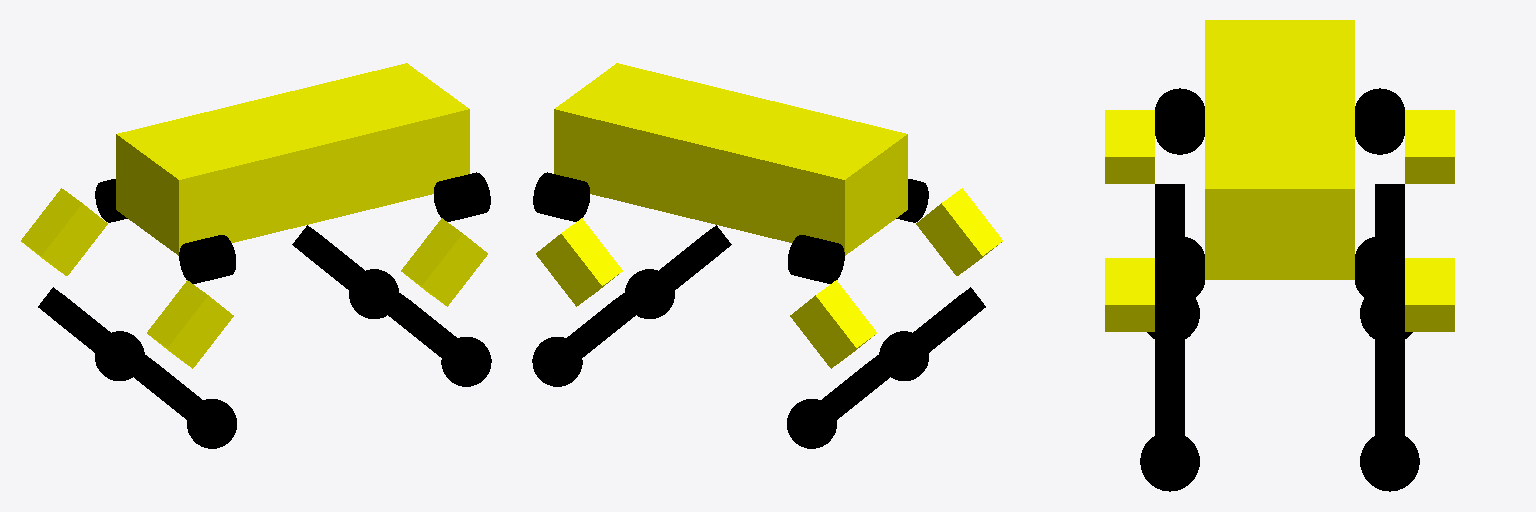
robot.urdf — bipedal:
<?xml version="1.0"?>
<robot name="bipedal" >


  <link name="base_link">
    <visual>
      <geometry>
        <box size="0.4 0.15 0.1"/>
      </geometry>
      <material name="yellow">
        <color rgba="1 1 0 1"/>
      </material>
    </visual>

    <collision>
      <geometry>
        <box size="0.4 0.15 0.1"/>
      </geometry>
    </collision>

    <inertial>
      <mass value="1.5"/>
      <inertia ixx="0.015"  ixy="0"  ixz="0" iyy="0.015" iyz="0" izz="0.015" />
    </inertial>
  </link>
  
  <link name="fl_shoulder">
    <visual>
      <geometry>
        <cylinder radius="0.025" length="0.05"/>
      </geometry>
      <origin rpy="0 1.5708 0" xyz="0 0 0"/>
      <material name="black">
        <color rgba="0 0 0 1"/>
      </material>
    </visual>

    <collision>
      <geometry>
        <cylinder radius="0.025" length="0.05"/>
      </geometry>
      <origin rpy="0 1.5708 0" xyz="0 0 0"/>
    </collision>

    <inertial>
      <mass value=".1"/>
      <inertia ixx="0.00005"  ixy="0"  ixz="0" iyy="0.00013" iyz="0" izz="0.00018" />
    </inertial>
  </link>
  
  <joint name="fl_shoulder_to_base" type="revolute">
    <axis xyz="1 0 0"/>
    <limit effort="0.9" lower="-0.785" upper="0.785" velocity="2"/>
    <origin rpy="0 0 0" xyz="0.175 0.1 -0.05"/>
    <parent link="base_link"/>
    <child link="fl_shoulder"/>
  </joint>

  <link name="fr_shoulder">
    <visual>
      <geometry>
        <cylinder radius="0.025" length="0.05"/>
      </geometry>
      <origin rpy="0 1.5708 0" xyz="0 0 0"/>
      <material name="black">
      </material>
    </visual>

    <collision>
      <geometry>
        <cylinder radius="0.025" length="0.05"/>
      </geometry>
      <origin rpy="0 1.5708 0" xyz="0 0 0"/>
    </collision>

    <inertial>
      <mass value=".1"/>
      <inertia ixx="0.00005"  ixy="0"  ixz="0" iyy="0.00013" iyz="0" izz="0.00018" />
    </inertial>
  </link>
  
  <joint name="fr_shoulder_to_base" type="revolute">
    <axis xyz="1 0 0"/>
    <limit effort="0.9" lower="-0.785" upper="0.785" velocity="2"/>
    <origin rpy="0 0 0" xyz="0.175 -0.1 -0.05"/>
    <parent link="base_link"/>
    <child link="fr_shoulder"/>
  </joint>

  <link name="bl_shoulder">
    <visual>
      <geometry>
        <cylinder radius="0.025" length="0.05"/>
      </geometry>
      <origin rpy="0 1.5708 0" xyz="0 0 0"/>
      <material name="black">
      </material>
    </visual>

    <collision>
      <geometry>
        <cylinder radius="0.025" length="0.05"/>
      </geometry>
      <origin rpy="0 1.5708 0" xyz="0 0 0"/>
    </collision>

    <inertial>
      <mass value=".1"/>
      <inertia ixx="0.00005"  ixy="0"  ixz="0" iyy="0.00013" iyz="0" izz="0.00018" />
    </inertial>
  </link>
  
  <joint name="bl_shoulder_to_base" type="revolute">
    <axis xyz="1 0 0"/>
    <limit effort="0.9" lower="-0.785" upper="0.785" velocity="2"/>
    <origin rpy="0 0 0" xyz="-0.175 0.1 -0.05"/>
    <parent link="base_link"/>
    <child link="bl_shoulder"/>
  </joint>

  <link name="br_shoulder">
    <visual>
      <geometry>
        <cylinder radius="0.025" length="0.05"/>
      </geometry>
      <origin rpy="0 1.5708 0" xyz="0 0 0"/>
      <material name="black">
      </material>
    </visual>

    <collision>
      <geometry>
        <cylinder radius="0.025" length="0.05"/>
      </geometry>
      <origin rpy="0 1.5708 0" xyz="0 0 0"/>
    </collision>

    <inertial>
      <mass value=".1"/>
      <inertia ixx="0.00005"  ixy="0"  ixz="0" iyy="0.00013" iyz="0" izz="0.00018" />
    </inertial>
  </link>
  
  <joint name="br_shoulder_to_base" type="revolute">
    <axis xyz="1 0 0"/>
    <limit effort="0.9" lower="-0.785" upper="0.785" velocity="2"/>
    <origin rpy="0 0 0" xyz="-0.175 -0.1 -0.05"/>
    <parent link="base_link"/>
    <child link="br_shoulder"/>
  </joint>

  <link name="fl_thigh">
    <visual>
      <geometry>
        <box size="0.05 0.05 0.08"/>
      </geometry>
      <origin rpy="0 0 0" xyz="0 0.025 -0.075"/>
      <material name="yellow">
      </material>
    </visual>

    <collision>
      <geometry>
        <box size="0.05 0.05 0.08"/>
      </geometry>
      <origin rpy="0 0 0" xyz="0 0.025 -0.075"/>
    </collision>

    <inertial>
      <mass value=".1"/>
      <inertia ixx="0.00005"  ixy="0"  ixz="0" iyy="0.00013" iyz="0" izz="0.00018" />
    </inertial>
  </link>
  
  <joint name="fl_thigh_to_shoulder" type="revolute">
    <axis xyz="0 1 0"/>
    <limit effort="0.9" lower="-0.785" upper="0.785" velocity="2"/>
    <origin rpy="0 0.785 0" xyz="0 0.025 0"/>
    <parent link="fl_shoulder"/>
    <child link="fl_thigh"/>
  </joint>

  <link name="fr_thigh">
    <visual>
      <geometry>
        <box size="0.05 0.05 0.08"/>
      </geometry>
      <origin rpy="0 0 0" xyz="0 -0.025 -0.075"/>
      <material name="yellow">
      </material>
    </visual>

    <collision>
      <geometry>
        <box size="0.05 0.05 0.08"/>
      </geometry>
      <origin rpy="0 0 0" xyz="0 -0.025 -0.075"/>
    </collision>

    <inertial>
      <mass value=".1"/>
      <inertia ixx="0.00005"  ixy="0"  ixz="0" iyy="0.00013" iyz="0" izz="0.00018" />
    </inertial>
  </link>
  
  <joint name="fr_thigh_to_shoulder" type="revolute">
    <axis xyz="0 1 0"/>
    <limit effort="0.9" lower="-0.785" upper="0.785" velocity="2"/>
    <origin rpy="0 0.785 0" xyz="0 -0.025 0"/>
    <parent link="fr_shoulder"/>
    <child link="fr_thigh"/>
  </joint>

  <link name="bl_thigh">
    <visual>
      <geometry>
        <box size="0.05 0.05 0.08"/>
      </geometry>
      <origin rpy="0 0 0" xyz="0 0.025 -0.075"/>
      <material name="yellow">
      </material>
    </visual>

    <collision>
      <geometry>
        <box size="0.05 0.05 0.08"/>
      </geometry>
      <origin rpy="0 0 0" xyz="0 0.025 -0.075"/>
    </collision>

    <inertial>
      <mass value=".1"/>
      <inertia ixx="0.00005"  ixy="0"  ixz="0" iyy="0.00013" iyz="0" izz="0.00018" />
    </inertial>
  </link>
  
  <joint name="bl_thigh_to_shoulder" type="revolute">
    <axis xyz="0 1 0"/>
    <limit effort="0.9" lower="-0.785" upper="0.785" velocity="2"/>
    <origin rpy="0 0.785 0" xyz="0 0.025 0"/>
    <parent link="bl_shoulder"/>
    <child link="bl_thigh"/>
  </joint>

  <link name="br_thigh">
    <visual>
      <geometry>
        <box size="0.05 0.05 0.08"/>
      </geometry>
      <origin rpy="0 0 0" xyz="0 -0.025 -0.075"/>
      <material name="yellow">
      </material>
    </visual>

    <collision>
      <geometry>
        <box size="0.05 0.05 0.08"/>
      </geometry>
      <origin rpy="0 0 0" xyz="0 -0.025 -0.075"/>
    </collision>

    <inertial>
      <mass value=".1"/>
      <inertia ixx="0.00005"  ixy="0"  ixz="0" iyy="0.00013" iyz="0" izz="0.00018" />
    </inertial>
  </link>
  
  <joint name="br_thigh_to_shoulder" type="revolute">
    <axis xyz="0 1 0"/>
    <limit effort="0.9" lower="-0.785" upper="0.785" velocity="2"/>
    <origin rpy="0 0.785 0" xyz="0 -0.025 0"/>
    <parent link="br_shoulder"/>
    <child link="br_thigh"/>
  </joint>

  <link name="fl_bicep">
    <visual>
      <geometry>
        <box size="0.03 0.03 0.115"/>
      </geometry>
      <origin rpy="0 0 0" xyz="0 -0.015 -0.075"/>
      <material name="black">
      </material>
    </visual>
	
	<visual>
      <geometry>
        <sphere radius="0.03"/>
      </geometry>
      <origin rpy="0 0 0" xyz="0 -0.015 -0.15"/>
      <material name="black">
      </material>
    </visual>
	
    <collision>
      <geometry>
        <box size="0.03 0.03 0.115"/>
      </geometry>
      <origin rpy="0 0 0" xyz="0 -0.015 -0.075"/>
    </collision>

	<collision>
      <geometry>
        <sphere radius="0.03"/>
      </geometry>
      <origin rpy="0 0 0" xyz="0 -0.015 -0.15"/>
    </collision>	


    <inertial>
      <mass value=".1"/>
      <inertia ixx="0.00005"  ixy="0"  ixz="0" iyy="0.00013" iyz="0" izz="0.00018" />
    </inertial>
  </link>
  
  <joint name="fl_bicep_to_thigh" type="revolute">
    <axis xyz="0 1 0"/>
    <limit effort="0.9" lower="-0.785" upper="0.785" velocity="2"/>
    <origin rpy="0 -1.5708 0" xyz="0 0 -0.15"/>
    <parent link="fl_thigh"/>
    <child link="fl_bicep"/>
  </joint>

  <link name="fr_bicep">
    <visual>
      <geometry>
        <box size="0.03 0.03 0.115"/>
      </geometry>
      <origin rpy="0 0 0" xyz="0 0.015 -0.075"/>
      <material name="black">
      </material>
    </visual>
	
	<visual>
      <geometry>
        <sphere radius="0.03"/>
      </geometry>
      <origin rpy="0 0 0" xyz="0 0.015 -0.15"/>
      <material name="black">
      </material>
    </visual>
	
    <collision>
      <geometry>
        <box size="0.03 0.03 0.115"/>
      </geometry>
      <origin rpy="0 0 0" xyz="0 0.015 -0.075"/>
    </collision>

	<collision>
      <geometry>
        <sphere radius="0.03"/>
      </geometry>
      <origin rpy="0 0 0" xyz="0 0.015 -0.15"/>
    </collision>	


    <inertial>
      <mass value=".1"/>
      <inertia ixx="0.00005"  ixy="0"  ixz="0" iyy="0.00013" iyz="0" izz="0.00018" />
    </inertial>
  </link>
  
  <joint name="fr_bicep_to_thigh" type="revolute">
    <axis xyz="0 1 0"/>
    <limit effort="0.9" lower="-0.785" upper="0.785" velocity="2"/>
    <origin rpy="0 -1.5708 0" xyz="0 0 -0.15"/>
    <parent link="fr_thigh"/>
    <child link="fr_bicep"/>
  </joint>

  <link name="bl_bicep">
    <visual>
      <geometry>
        <box size="0.03 0.03 0.115"/>
      </geometry>
      <origin rpy="0 0 0" xyz="0 -0.015 -0.075"/>
      <material name="black">
      </material>
    </visual>
	
	<visual>
      <geometry>
        <sphere radius="0.03"/>
      </geometry>
      <origin rpy="0 0 0" xyz="0 -0.015 -0.15"/>
      <material name="black">
      </material>
    </visual>
	
    <collision>
      <geometry>
        <box size="0.03 0.03 0.115"/>
      </geometry>
      <origin rpy="0 0 0" xyz="0 -0.015 -0.075"/>
    </collision>

	<collision>
      <geometry>
        <sphere radius="0.03"/>
      </geometry>
      <origin rpy="0 0 0" xyz="0 -0.015 -0.15"/>
    </collision>	


    <inertial>
      <mass value=".1"/>
      <inertia ixx="0.00005"  ixy="0"  ixz="0" iyy="0.00013" iyz="0" izz="0.00018" />
    </inertial>
  </link>
  
  <joint name="bl_bicep_to_thigh" type="revolute">
    <axis xyz="0 1 0"/>
    <limit effort="0.9" lower="-0.785" upper="0.785" velocity="2"/>
    <origin rpy="0 -1.5708 0" xyz="0 0 -0.15"/>
    <parent link="bl_thigh"/>
    <child link="bl_bicep"/>
  </joint>

  <link name="br_bicep">
    <visual>
      <geometry>
        <box size="0.03 0.03 0.115"/>
      </geometry>
      <origin rpy="0 0 0" xyz="0 0.015 -0.075"/>
      <material name="black">
      </material>
    </visual>
	
	<visual>
      <geometry>
        <sphere radius="0.03"/>
      </geometry>
      <origin rpy="0 0 0" xyz="0 0.015 -0.15"/>
      <material name="black">
      </material>
    </visual>
	
    <collision>
      <geometry>
        <box size="0.03 0.03 0.115"/>
      </geometry>
      <origin rpy="0 0 0" xyz="0 0.015 -0.075"/>
    </collision>

	<collision>
      <geometry>
        <sphere radius="0.03"/>
      </geometry>
      <origin rpy="0 0 0" xyz="0 0.015 -0.15"/>
    </collision>	


    <inertial>
      <mass value=".1"/>
      <inertia ixx="0.00005"  ixy="0"  ixz="0" iyy="0.00013" iyz="0" izz="0.00018" />
    </inertial>
  </link>
  
  <joint name="br_bicep_to_thigh" type="revolute">
    <axis xyz="0 1 0"/>
    <limit effort="0.9" lower="-0.785" upper="0.785" velocity="2"/>
    <origin rpy="0 -1.5708 0" xyz="0 0 -0.15"/>
    <parent link="br_thigh"/>
    <child link="br_bicep"/>
  </joint>
</robot>

--- Render facts (derived) ---
3 views of the same robot in one strip: view 1: azimuth 30°, elevation 25°; view 2: azimuth 150°, elevation 25°; view 3: azimuth 270°, elevation 25° (orthographic).
Robot: bipedal — 13 links, 12 joints (12 revolute); root link base_link; default pose: every joint at zero.
Visible links, largest first — view 1: base_link, fr_thigh, br_thigh, bl_thigh, fr_bicep, br_bicep, fl_bicep, bl_bicep, fr_shoulder, br_shoulder, bl_shoulder; view 2: base_link, fl_thigh, bl_thigh, br_thigh, fl_bicep, bl_bicep, fr_bicep, br_bicep, fl_shoulder, bl_shoulder, br_shoulder; view 3: base_link, fl_bicep, fr_bicep, fl_thigh, fr_thigh, bl_thigh, br_thigh, bl_bicep, br_bicep, fl_shoulder, fr_shoulder, bl_shoulder (+1 smaller).
Boxes of the visible links, x1,y1,x2,y2 form: base_link: (116, 63, 469, 255); fr_thigh: (401, 218, 487, 306); br_thigh: (147, 280, 233, 368); bl_thigh: (21, 188, 107, 275); fr_bicep: (384, 293, 491, 386); br_bicep: (130, 355, 236, 448); fl_bicep: (292, 225, 398, 318); bl_bicep: (38, 287, 144, 380); fr_shoulder: (434, 172, 490, 221); br_shoulder: (179, 235, 235, 283); bl_shoulder: (95, 179, 127, 222); base_link: (554, 63, 907, 255); fl_thigh: (536, 218, 622, 306); bl_thigh: (790, 280, 876, 368); br_thigh: (916, 188, 1002, 275); fl_bicep: (532, 293, 639, 386); bl_bicep: (787, 355, 893, 448); fr_bicep: (625, 225, 731, 318); br_bicep: (879, 287, 985, 380); fl_shoulder: (533, 172, 589, 221); bl_shoulder: (788, 235, 844, 283); br_shoulder: (896, 179, 928, 222); base_link: (1205, 20, 1354, 279); fl_bicep: (1360, 332, 1419, 491); fr_bicep: (1140, 332, 1199, 491); fl_thigh: (1405, 258, 1454, 331); fr_thigh: (1105, 258, 1154, 331); bl_thigh: (1405, 110, 1454, 183); br_thigh: (1105, 110, 1154, 183); bl_bicep: (1360, 184, 1412, 338); br_bicep: (1147, 184, 1199, 338); fl_shoulder: (1355, 236, 1404, 302); fr_shoulder: (1155, 236, 1204, 302); bl_shoulder: (1355, 88, 1404, 154).
Size in the robot's own frame: 0.4843 by 0.35 by 0.3421 metres.
Geometry: primitives only (box / cylinder / sphere), no mesh files.